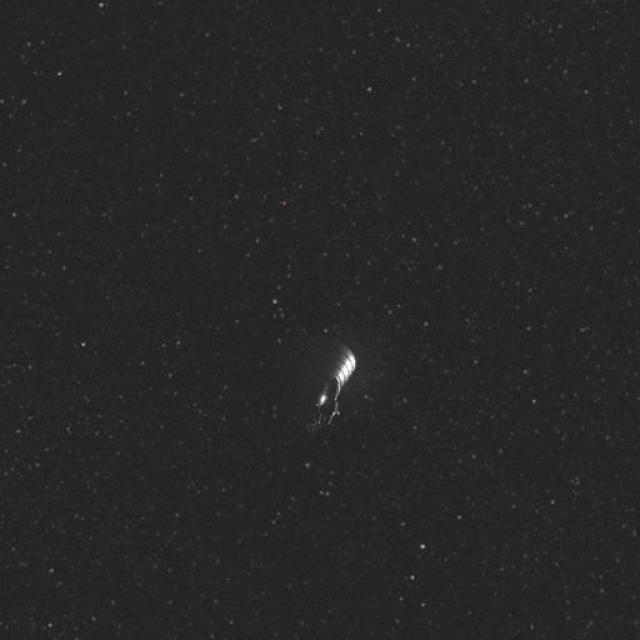debris: (270, 312, 368, 449)
